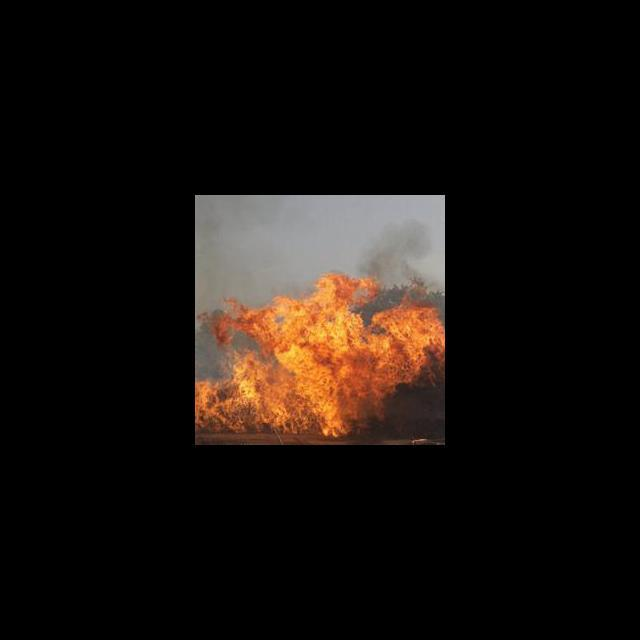Fire: (196, 270, 445, 435)
Smoke: (356, 213, 433, 270)
